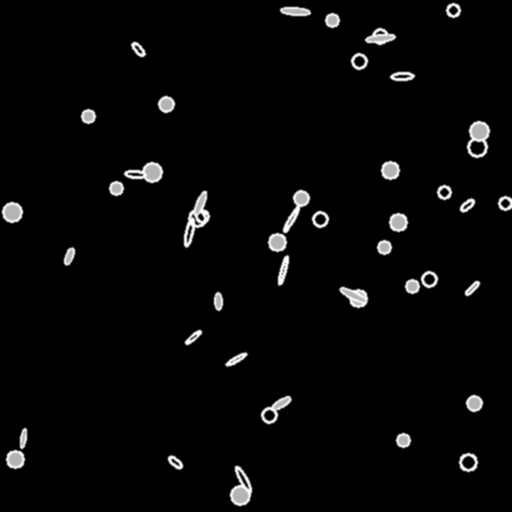pseudomonas: (233, 465, 253, 493), (339, 286, 367, 304), (282, 205, 300, 233), (192, 190, 208, 216), (277, 255, 289, 285), (183, 217, 195, 247), (225, 351, 247, 367), (271, 395, 291, 411), (365, 33, 395, 43), (184, 329, 202, 345), (130, 41, 146, 57), (459, 197, 475, 213), (464, 280, 480, 296), (281, 7, 309, 15), (167, 455, 183, 469), (63, 247, 75, 265), (390, 72, 414, 80), (124, 170, 146, 178), (19, 429, 27, 447), (215, 292, 221, 310)
synechocystis: (143, 163, 161, 181), (231, 486, 249, 504), (468, 138, 486, 156), (470, 122, 488, 140), (3, 203, 21, 221), (382, 162, 398, 178), (460, 454, 476, 470), (7, 451, 23, 467), (350, 290, 366, 306), (189, 210, 205, 226), (390, 214, 406, 230), (269, 234, 285, 250), (294, 191, 308, 205), (352, 54, 366, 68), (467, 396, 481, 410), (422, 272, 436, 286), (262, 408, 276, 422), (159, 97, 173, 111), (313, 212, 327, 226), (373, 29, 387, 43), (110, 182, 122, 194), (397, 434, 409, 446), (447, 4, 459, 16), (499, 197, 511, 209), (378, 241, 390, 253), (326, 14, 338, 26), (438, 186, 450, 198), (406, 280, 418, 292), (196, 210, 208, 222), (82, 110, 94, 122)
